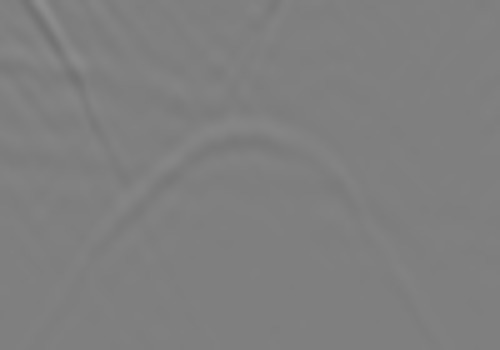hyperbola: (77, 112, 440, 328)
